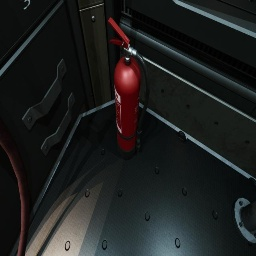FireExtinguisher ]: (108, 17, 150, 159)
